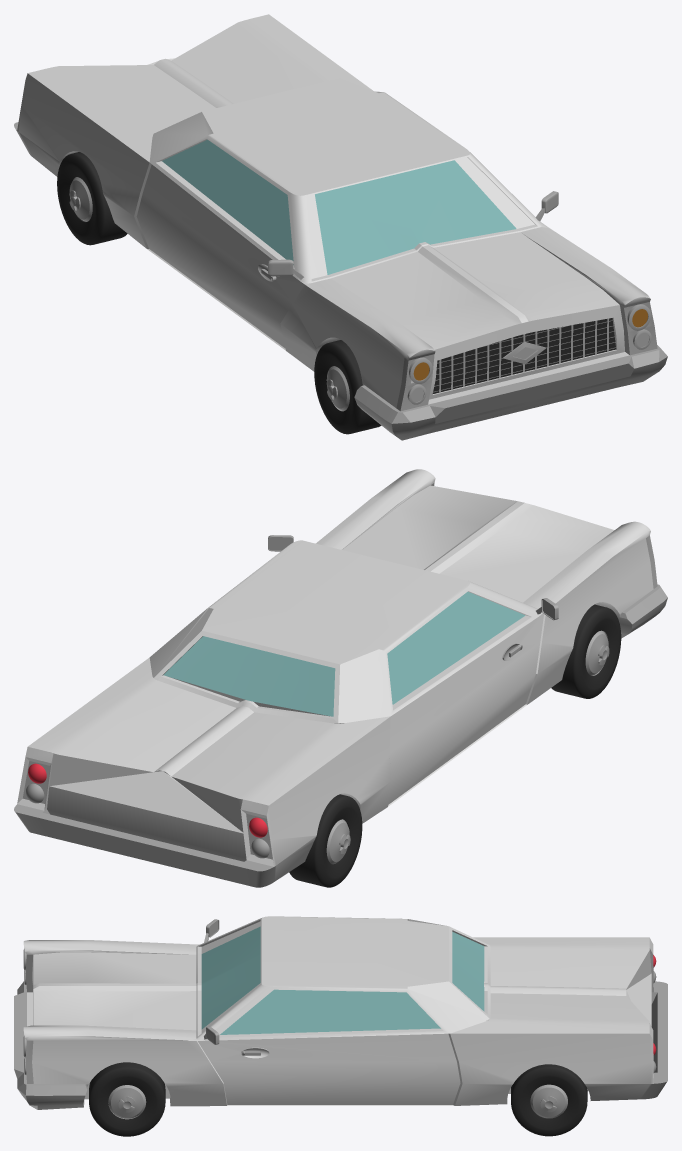
File: samochiud.fbx
3 views of the same model, one above another, from view 1: azimuth 30°, elevation 25°; view 2: azimuth 150°, elevation 25°; view 3: azimuth 270°, elevation 25° (orthographic). The views are drawn at different scales.
Visible parts, largest first — view 1: Sphere.001; view 2: Sphere.001; view 3: Sphere.001.
Part boxes in pixels (<box>): Sphere.001: <box>14,14,667,440</box>; Sphere.001: <box>14,469,667,887</box>; Sphere.001: <box>14,916,667,1136</box>.
Bounding box in the file's own units: 811 × 437 × 1933.
